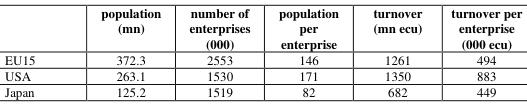table: (4, 3, 521, 99)
table column: (67, 3, 174, 99), (263, 3, 355, 99), (174, 3, 263, 99), (435, 3, 521, 99), (355, 3, 435, 99), (4, 3, 67, 99)
table column header: (4, 3, 521, 51)
table row: (4, 3, 521, 51), (4, 66, 521, 83), (4, 83, 521, 99), (4, 51, 521, 66)
